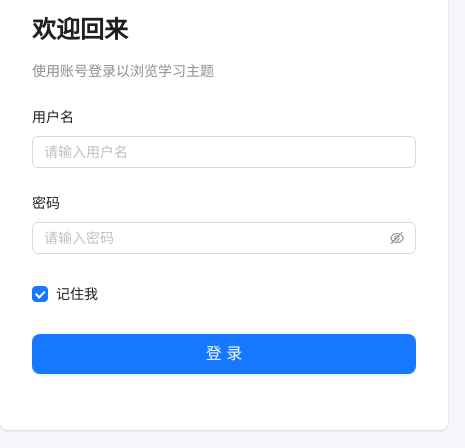
Test: LoginForm › 弱口令时展示校验提示并不触发登录
In the field labelled "用户名": (216, 152) [44, 141, 388, 163], type "tester"
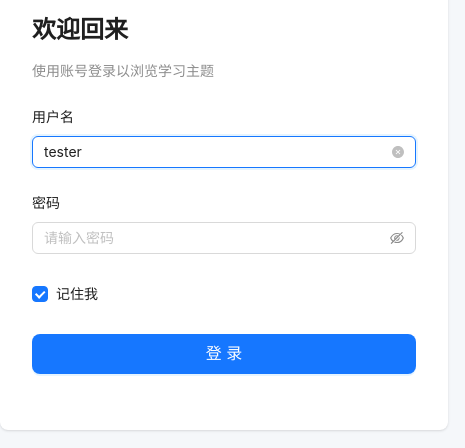
In the password field labelled "密码": (215, 238) [44, 227, 386, 249], type "Password123"
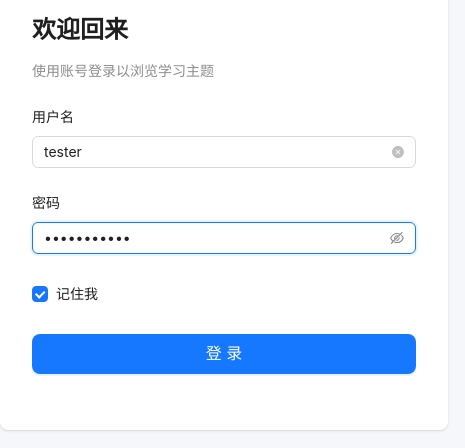
Click the button "登 录": (224, 354) [32, 334, 416, 374]
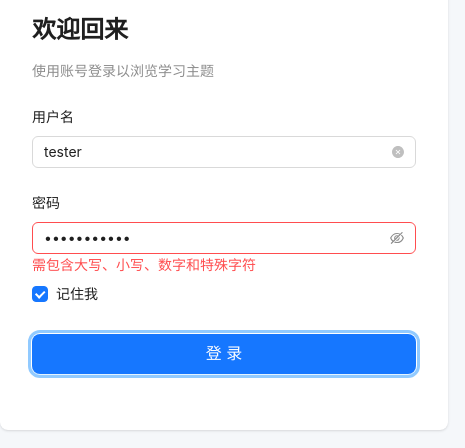
Check: the text "需包含大写、小写、数字和特殊字符" is shown, box [32, 256, 256, 273]
